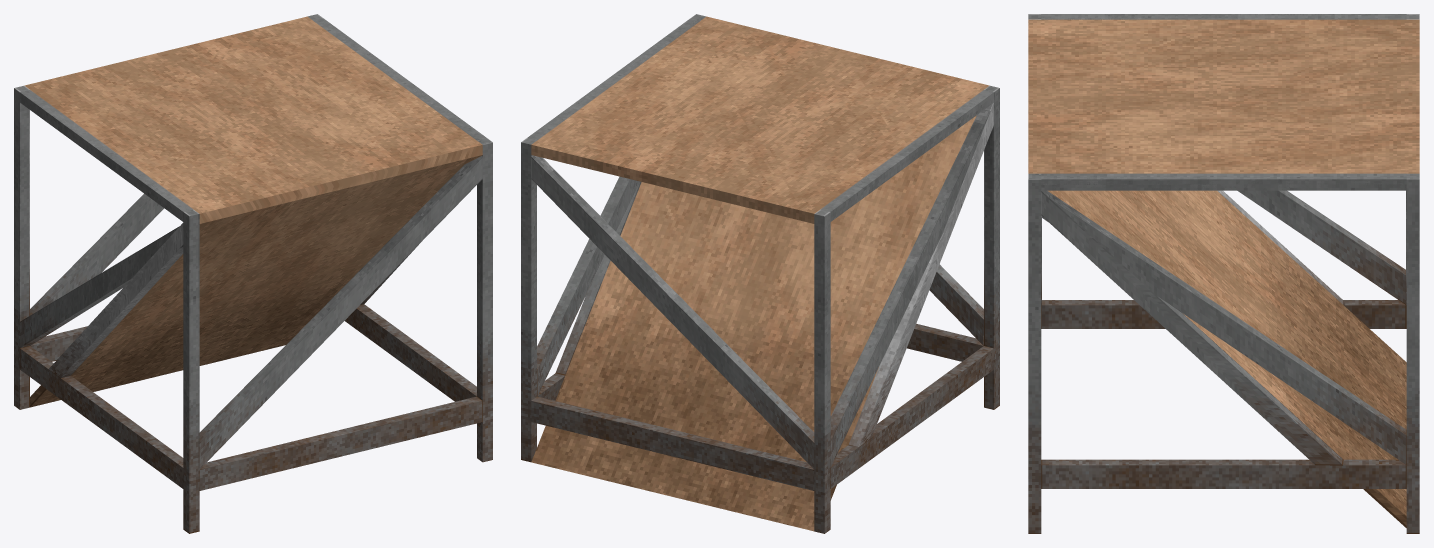
Rendered from SM_scaffoldItems_01.fbx.
3 renders of one model, left to right at view 1: azimuth 30°, elevation 25°; view 2: azimuth 150°, elevation 25°; view 3: azimuth 270°, elevation 25°, orthographic. The views are drawn at different scales.
Visible parts, largest first — view 1: SM_scaffoldRamp_01, SM_scaffoldWalkway_01; view 2: SM_scaffoldRamp_01, SM_scaffoldWalkway_01; view 3: SM_scaffoldWalkway_01, SM_scaffoldRamp_01.
Boxes of the visible parts, <box> form: SM_scaffoldRamp_01: <box>14,14,492,533</box>; SM_scaffoldWalkway_01: <box>20,16,482,361</box>; SM_scaffoldRamp_01: <box>521,14,999,533</box>; SM_scaffoldWalkway_01: <box>527,16,993,490</box>; SM_scaffoldWalkway_01: <box>1028,14,1419,464</box>; SM_scaffoldRamp_01: <box>1028,14,1419,533</box>.
Bounding box in the file's own units: 50.08 × 50 × 50.
Materials: 2 (2 with a texture image).
